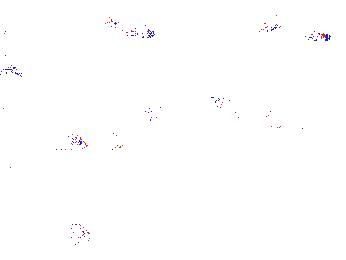X-ray fish: (43, 129, 89, 153), (96, 130, 124, 154), (66, 224, 92, 246)
glassfish: (209, 93, 319, 140), (145, 98, 168, 128)
redtail glassfish: (258, 15, 332, 43), (106, 10, 156, 40)
